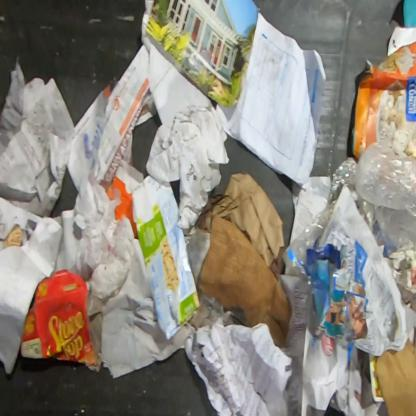cardboard: (198, 214, 292, 349), (288, 238, 369, 342), (351, 39, 415, 163), (20, 268, 99, 366), (375, 336, 415, 415)
rigid_plastic: (282, 156, 374, 279)
soft_plastic: (354, 141, 415, 249)
